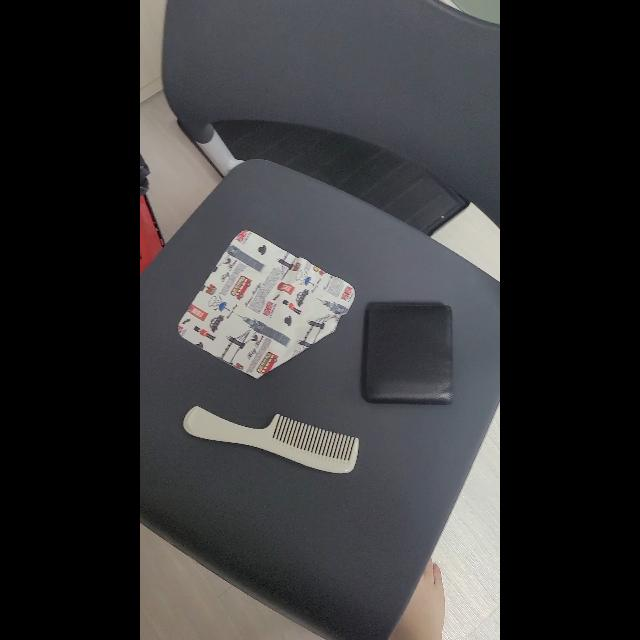COMB: (183, 406, 359, 474)
Glasses cleaning cloth: (177, 230, 355, 378)
WALLET: (362, 302, 452, 406)
